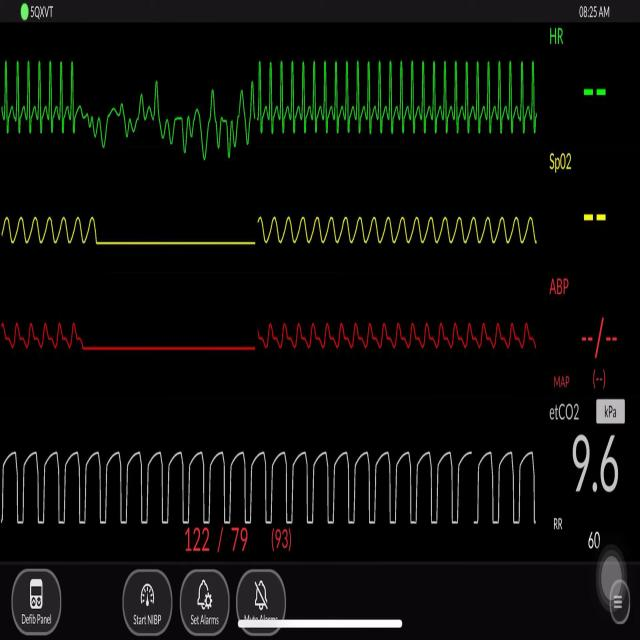danger: (252, 56, 540, 135), (1, 47, 79, 137)
